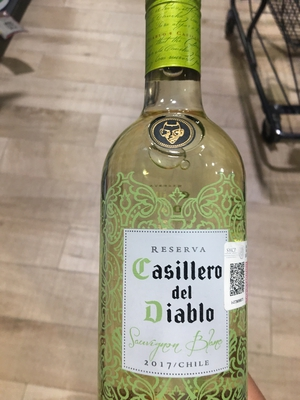casillero del diablo sauvignon blanc: (97, 6, 249, 400)
